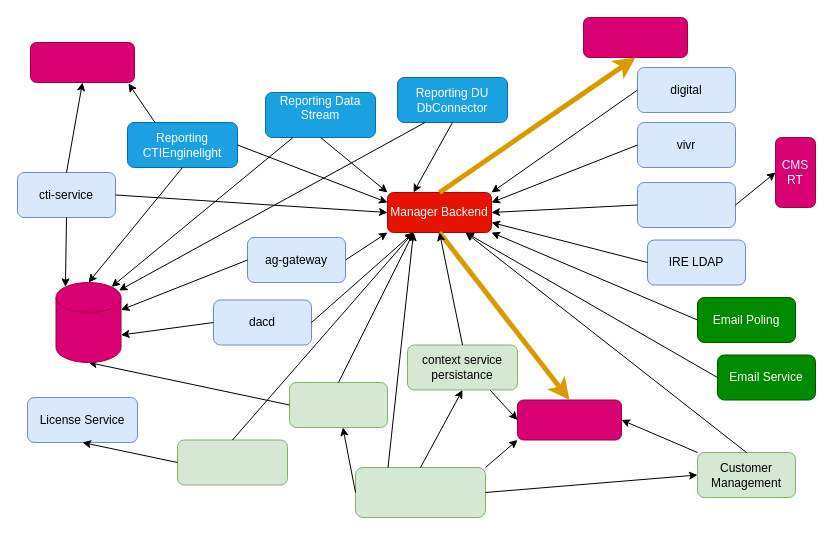
This 833x535 diagram has some shape labels left out. The shapes that lost their labels are listed below. From the top down, each one's box as (x1, y1, x2, y2) in pixels, then its label:
(582, 16, 688, 58): Database
(30, 42, 134, 82): Tsapi
(636, 182, 736, 228): IRE Core
(55, 282, 121, 362): Redis
(288, 382, 388, 428): context service
(516, 399, 622, 440): CouchDB
(176, 439, 288, 485): Manager API
(354, 466, 486, 518): Customer journey
